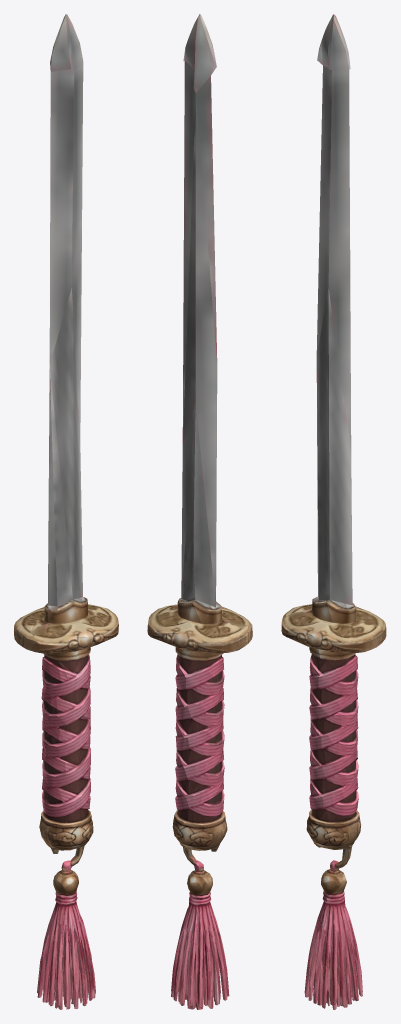
File: dual_blade_1.glb
3 renders of one model, left to right at view 1: azimuth 30°, elevation 25°; view 2: azimuth 150°, elevation 25°; view 3: azimuth 330°, elevation 25°, orthographic.
Parts seen in each view (by area): view 1: output_unwrapped; view 2: output_unwrapped; view 3: output_unwrapped.
Boxes of the visible parts, x1,y1,x2,y2 form: output_unwrapped: (14,14,118,1009); output_unwrapped: (147,14,252,1009); output_unwrapped: (281,14,386,1009).
Bounding box in the file's own units: 0.1856 × 1.9 × 0.1445.
1 material, 1 textured.
